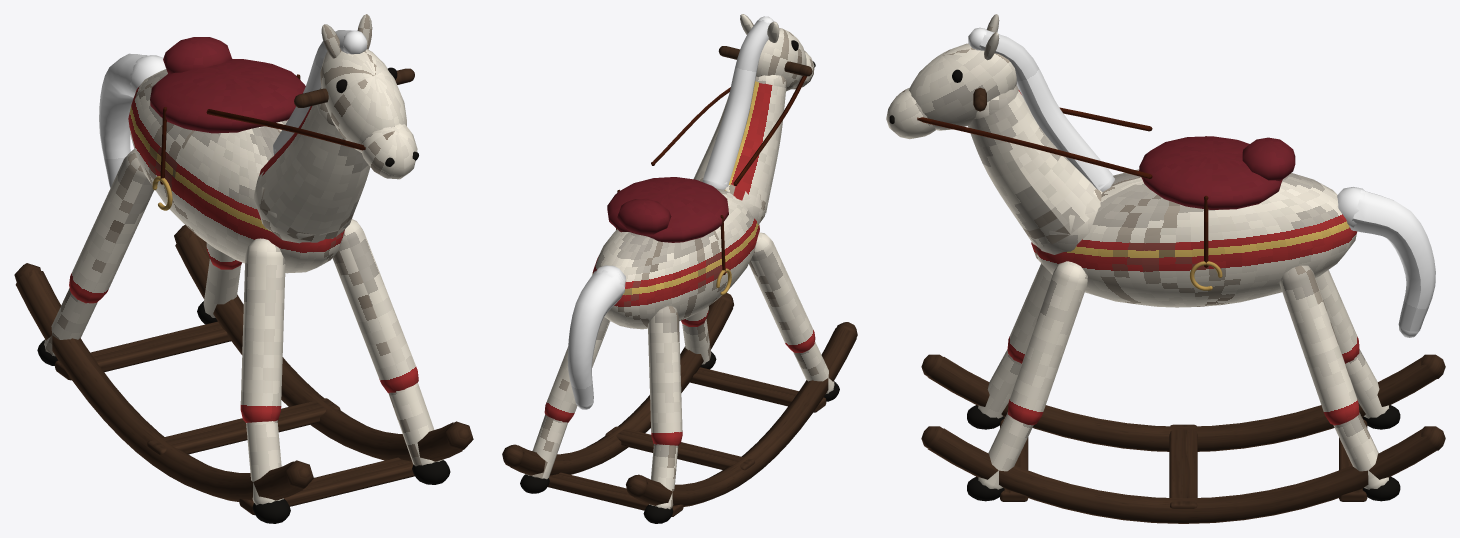
The model's file is rockingHorse.glb.
3 renders of one model, left to right at view 1: azimuth 30°, elevation 25°; view 2: azimuth 150°, elevation 25°; view 3: azimuth 270°, elevation 25°, orthographic. The views are drawn at different scales.
Visible parts, largest first — view 1: anim_swing_0, dyn_color_tint; view 2: anim_swing_0, dyn_color_tint; view 3: anim_swing_0, dyn_color_tint.
Boxes of the visible parts, box(x1,y1,x2,y2) form: anim_swing_0: box(14, 14, 473, 523); dyn_color_tint: box(99, 30, 366, 187); anim_swing_0: box(502, 14, 857, 523); dyn_color_tint: box(567, 16, 773, 409); anim_swing_0: box(886, 14, 1445, 523); dyn_color_tint: box(968, 27, 1435, 337).
Size of the model in its own units: 0.3601 by 0.907 by 0.9904.
Materials: 8 (6 with a texture image).
